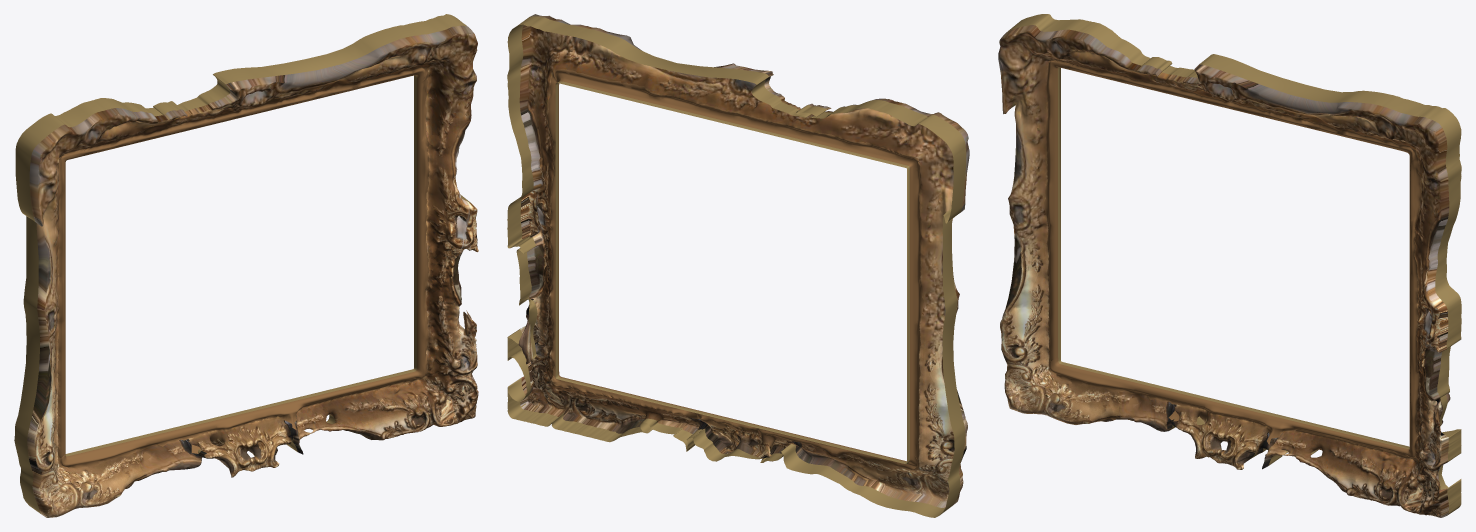
The model's file is ifac-rococo-gilt.glb.
The picture shows the model from 3 angles, left to right: view 1: azimuth 30°, elevation 25°; view 2: azimuth 150°, elevation 25°; view 3: azimuth 330°, elevation 25°; orthographic projection.
Parts seen in each view (by area): view 1: frame3; view 2: frame3; view 3: frame3.
Part boxes in pixels (left/top/right/bottom): frame3: left=14, top=14, right=478, bottom=517; frame3: left=507, top=14, right=969, bottom=517; frame3: left=998, top=14, right=1461, bottom=517.
Size of the model in its own units: 0.6503 by 0.5517 by 0.0949.
4 materials, 2 textured.
